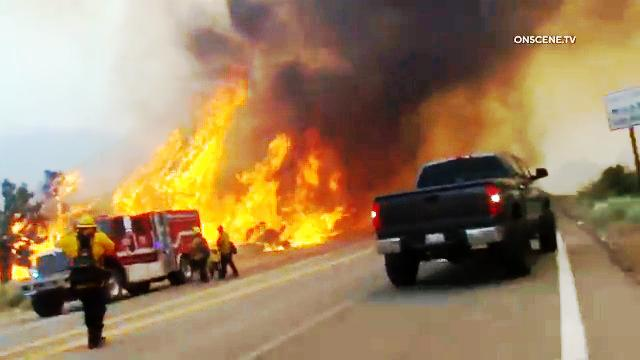fire: (107, 90, 233, 218), (263, 136, 362, 244), (16, 227, 63, 261)
smoke: (258, 13, 485, 93)
